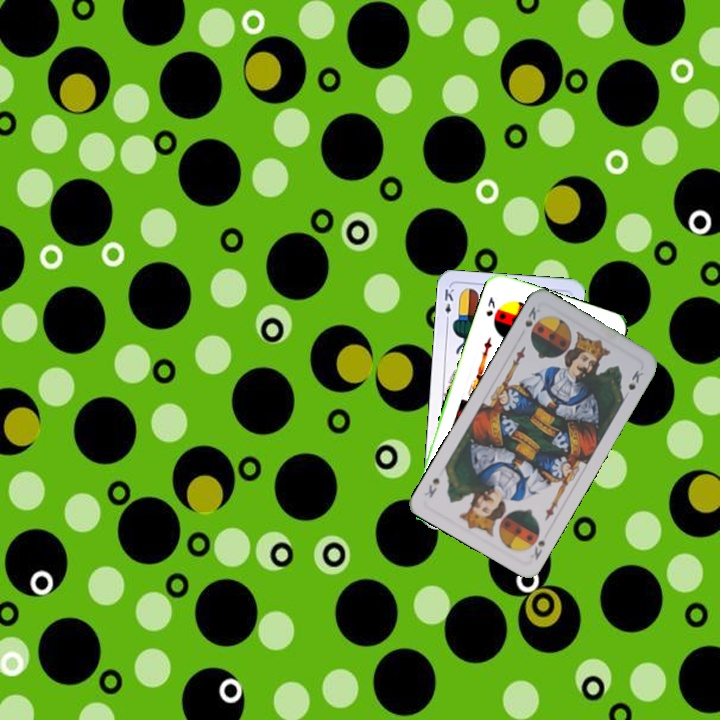EK: (441, 284, 456, 325)
SK: (526, 536, 548, 562), (521, 302, 539, 330), (482, 293, 498, 319)
